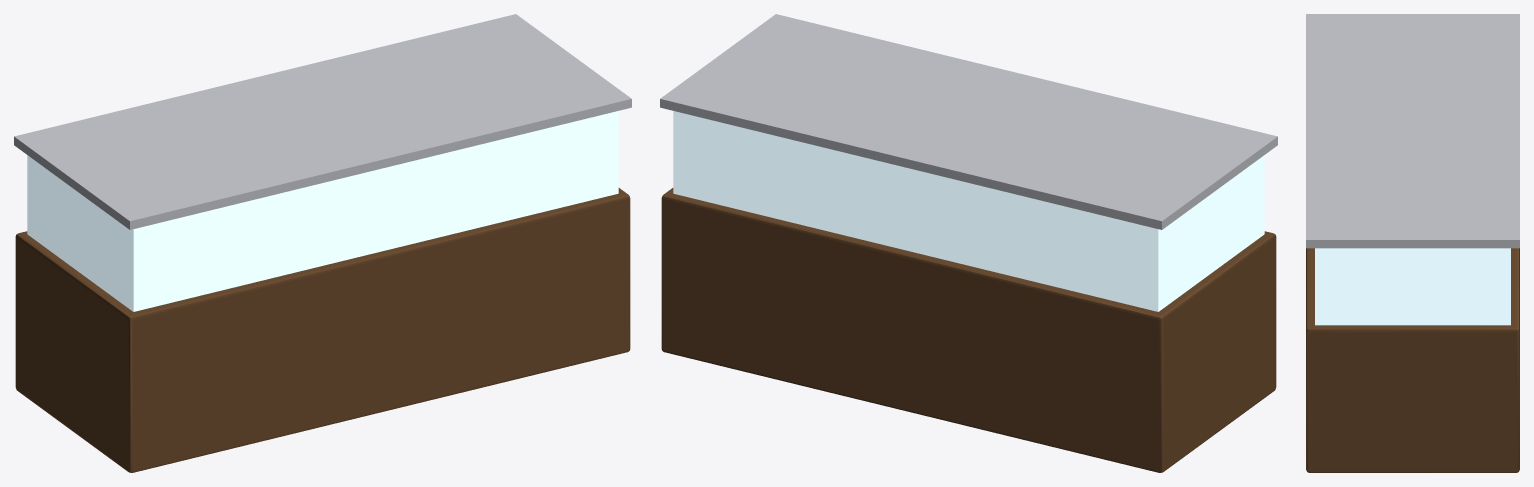
The model's file is display-case.glb.
3 views of the same model, side by side, from view 1: azimuth 30°, elevation 25°; view 2: azimuth 150°, elevation 25°; view 3: azimuth 270°, elevation 25° (orthographic). The views are drawn at different scales.
Parts seen in each view (by area): view 1: part-wood, part-chrome, part-clear-case; view 2: part-wood, part-chrome, part-clear-case; view 3: part-chrome, part-wood, part-clear-case.
Part boxes in pixels (x1,y1,x2,y2): part-wood: [15, 188, 630, 472]; part-chrome: [14, 14, 631, 229]; part-clear-case: [27, 111, 618, 311]; part-wood: [661, 188, 1276, 472]; part-chrome: [660, 14, 1277, 229]; part-clear-case: [673, 111, 1264, 311]; part-chrome: [1306, 14, 1519, 248]; part-wood: [1306, 248, 1519, 472]; part-clear-case: [1315, 248, 1510, 325].
Size of the model in its own units: 60 by 29 by 24.
